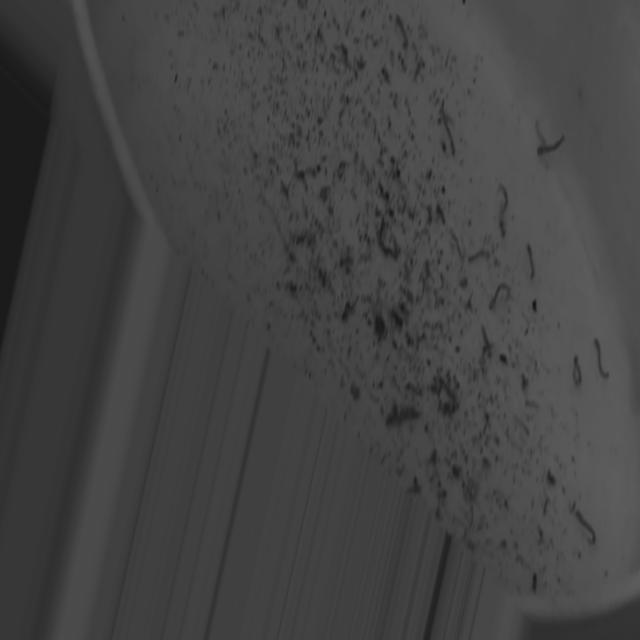larvas: (266, 199, 300, 271), (537, 131, 569, 162), (488, 281, 510, 313), (498, 177, 508, 242), (442, 108, 456, 152), (594, 338, 608, 378), (577, 515, 596, 539), (533, 117, 549, 143), (467, 242, 485, 264), (396, 15, 408, 47), (570, 354, 582, 384), (527, 242, 536, 280), (404, 378, 422, 397), (482, 329, 492, 358), (516, 416, 530, 434), (453, 230, 462, 257), (526, 396, 539, 412)
